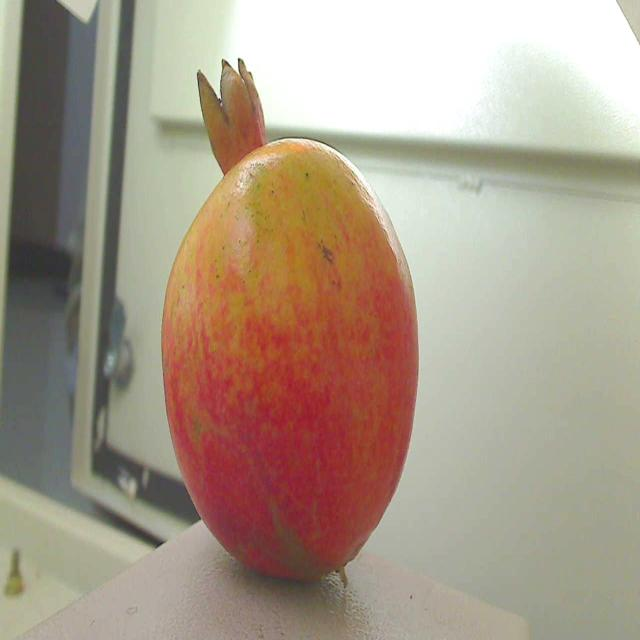pomegranate: (154, 49, 432, 588)
